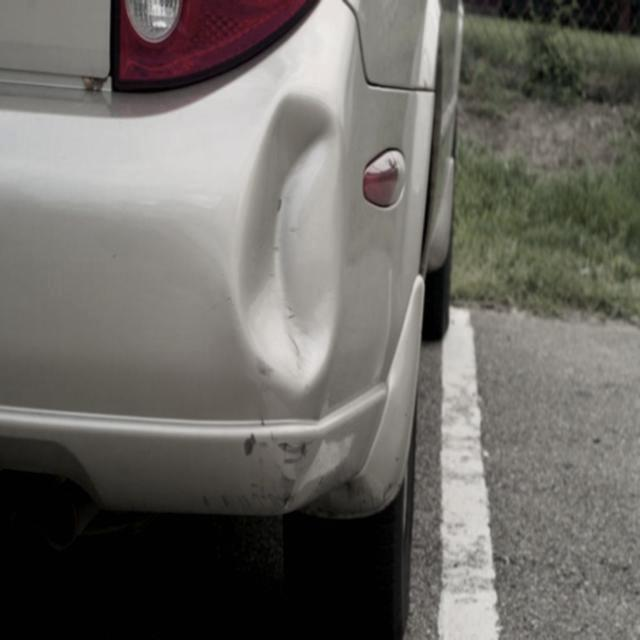minor: (224, 93, 343, 389)
moderate: (239, 424, 323, 509)
